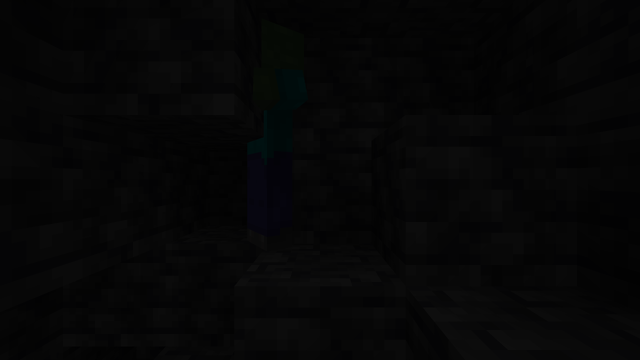zombies: (226, 24, 301, 251)
